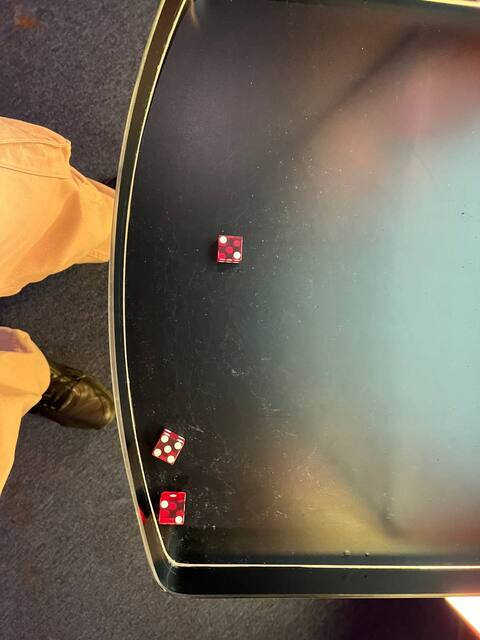five: (148, 432, 185, 466)
two: (213, 231, 246, 264), (154, 495, 187, 525)
